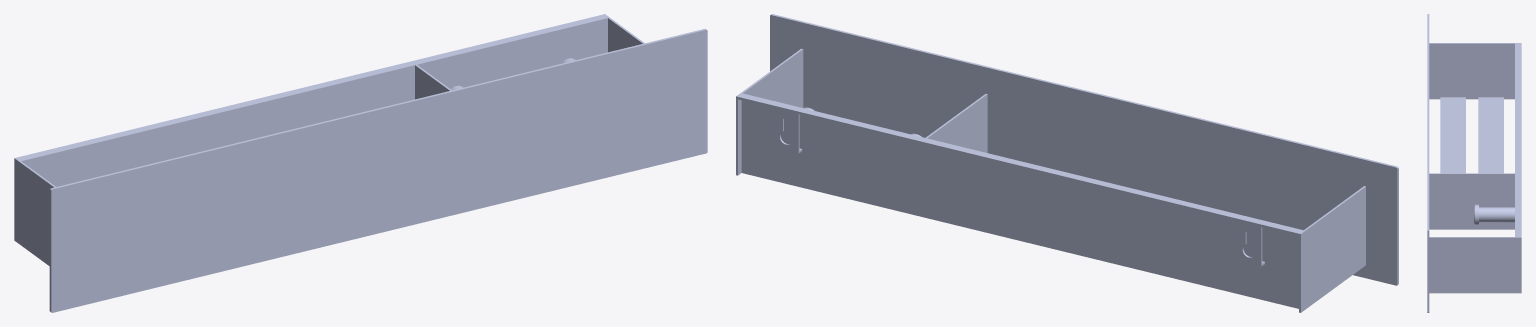
File: skyline-patron.eaa9aaf991.glb
3 views of the same model, side by side, from view 1: azimuth 30°, elevation 25°; view 2: azimuth 150°, elevation 25°; view 3: azimuth 270°, elevation 25° (orthographic). The views are drawn at different scales.
Visible parts, largest first — view 1: NAUO1; view 2: NAUO1; view 3: NAUO1.
Boxes of the visible parts, <box> form: NAUO1: <box>14,14,707,312</box>; NAUO1: <box>736,14,1398,312</box>; NAUO1: <box>1427,14,1521,312</box>.
Bounding box in the file's own units: 0.5 × 0.09 × 0.092.
